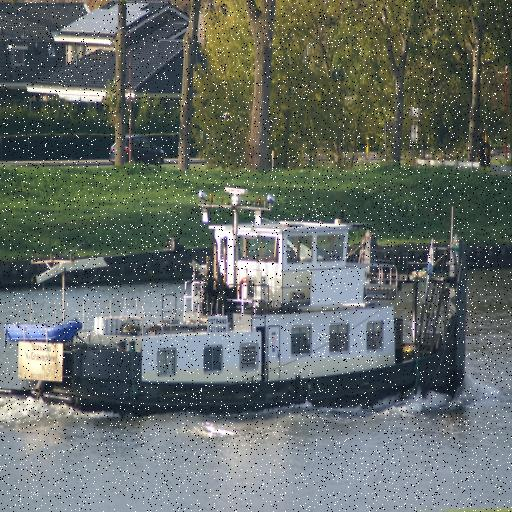tugboat: (1, 183, 484, 421)
